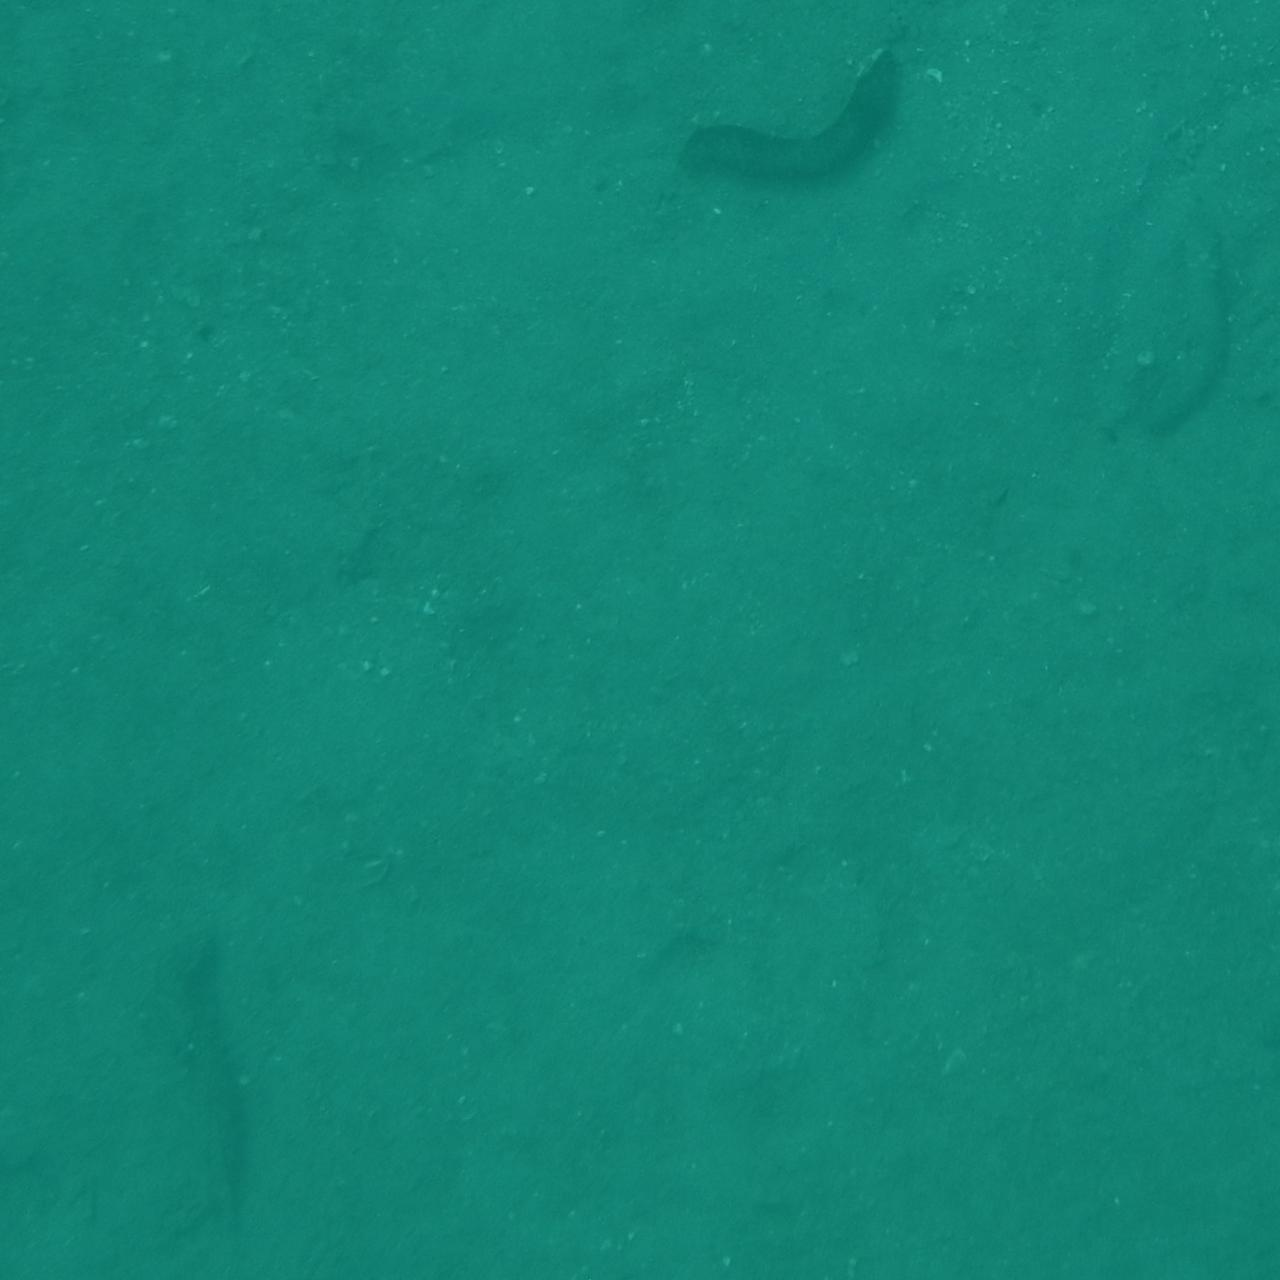Holothuria tubulosa: (136, 899, 300, 1247), (1123, 191, 1260, 457), (667, 45, 903, 183), (0, 399, 113, 685), (0, 675, 172, 823), (1160, 409, 1280, 617), (216, 0, 456, 97), (0, 1030, 189, 1146), (0, 422, 82, 680), (1217, 35, 1280, 343), (1193, 327, 1280, 517), (1189, 688, 1280, 847), (0, 1177, 132, 1280), (1103, 1205, 1280, 1280), (1169, 951, 1280, 1069), (1131, 1194, 1280, 1280), (1214, 1118, 1280, 1280), (0, 0, 75, 138), (593, 1155, 673, 1280), (0, 0, 116, 72), (1145, 1227, 1280, 1280), (1157, 1230, 1280, 1280), (1182, 0, 1280, 55)
